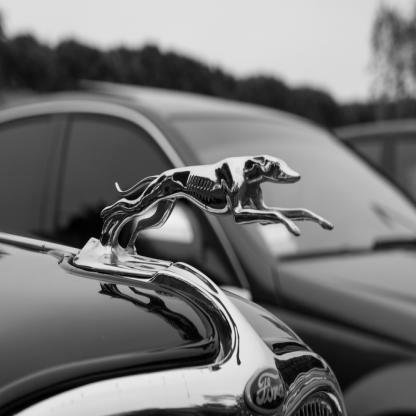car: (6, 77, 416, 396)
